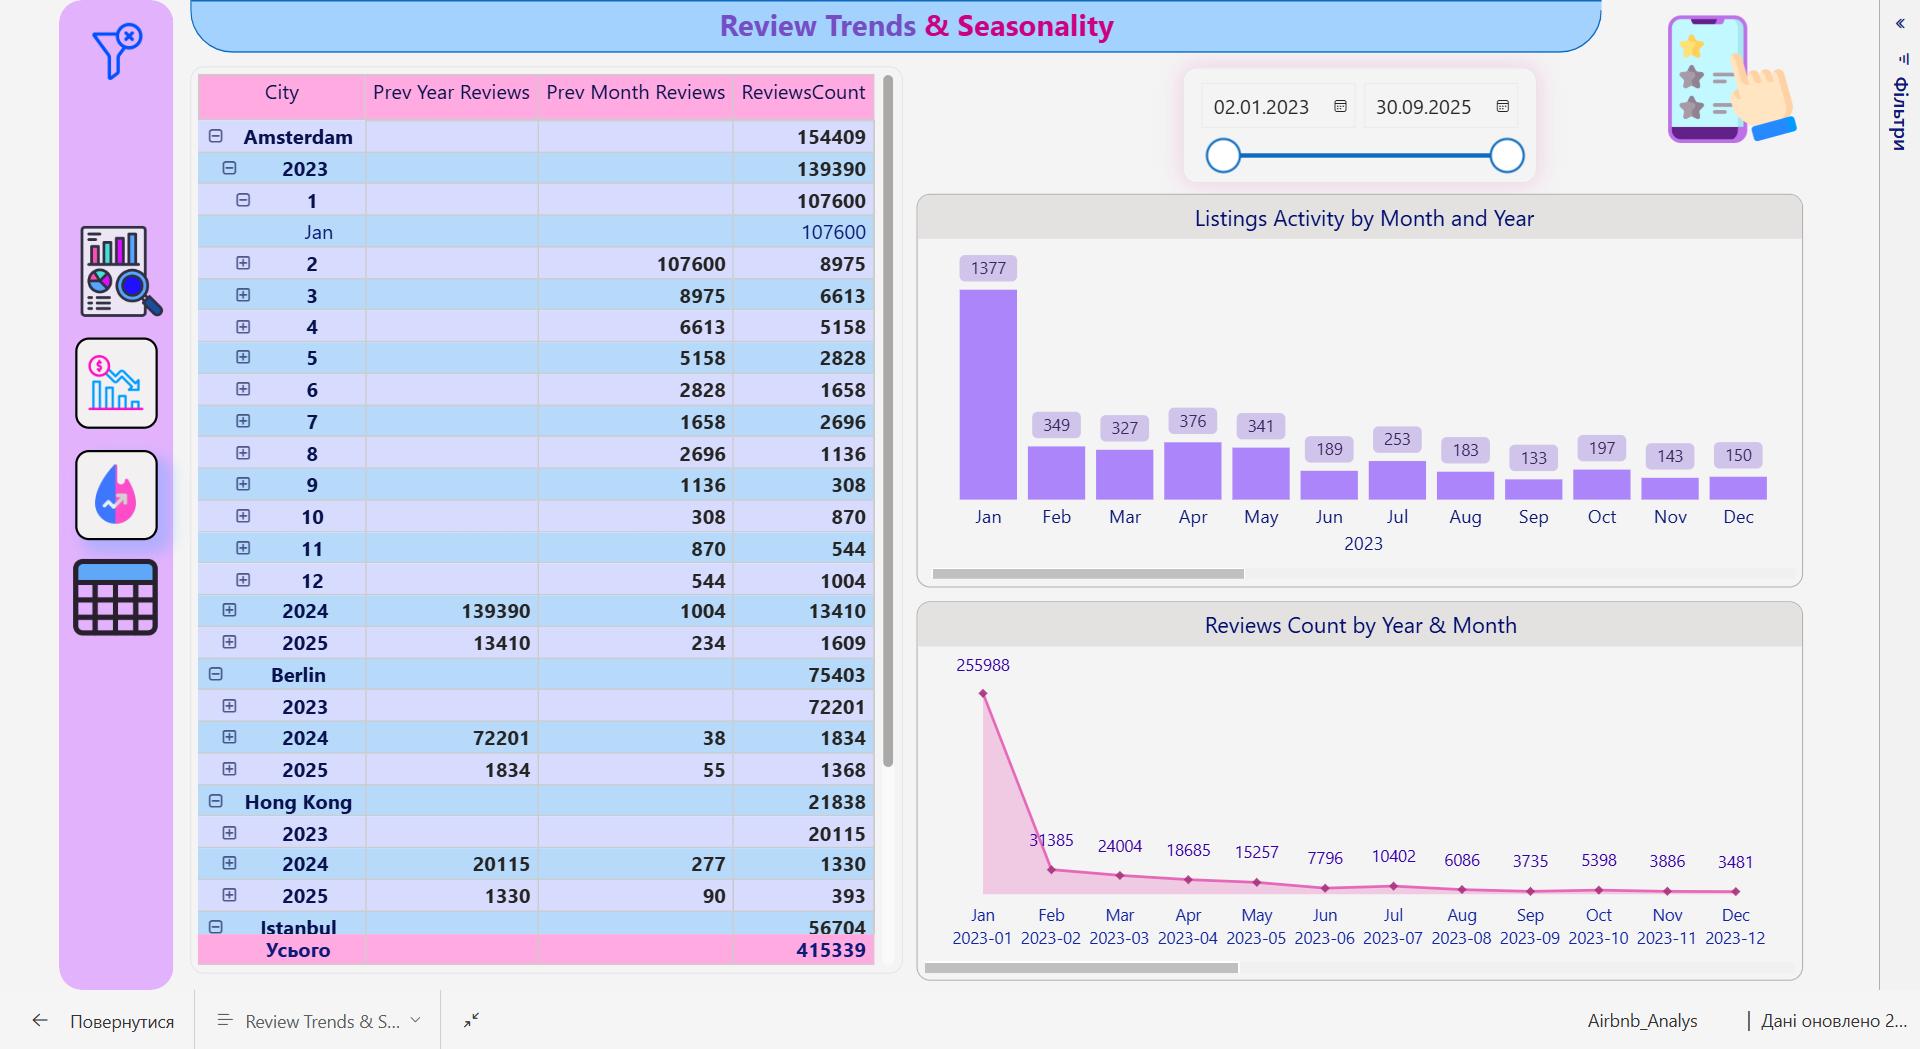

This screenshot's page, from the dashboard's own definition file:
{"tool":"powerbi","page":{"name":"Review Trends & Seasonality","canvas":[1280,720],"ordinal":2},"visuals":[{"type":"pivotTable","fields":{"Values":["_measures.NumberOfReviews"],"Rows":["Reviews5City.City","Calendar.Year","Calendar.MonthNumber","Calendar.MonthName"],"Columns":["Calculation group.Calculation group column"]},"box":[95,48.3,518.3,660],"z":0},{"type":"lineChart","title":"Reviews Count by Year & Month","fields":{"Category":["Calendar.YearMonth","Calendar.MonthName"],"Y":["_measures.NumberOfReviews"]},"box":[623.8,437.5,645,276.2],"z":1000},{"type":"slicer","title":"Choose Year:","fields":{"Values":["Listings5City.last_review"]},"box":[817.5,48.8,257.5,83.8],"z":2000},{"type":"lineStackedColumnComboChart","title":"Listings Activity by Month and Year","fields":{"Y":["_measures.ListingsCount"],"Category":["Calendar.Year","Calendar.MonthName"]},"box":[623.8,141.2,645,286.2],"z":3000},{"type":"shape","box":[95,0,1026.7,38.3],"z":4000},{"type":"textbox","box":[395,0,456.7,48.3],"z":5000},{"type":"shape","box":[0,0,83.3,720],"z":6000},{"type":"image","box":[7,151,77,93],"z":7000},{"type":"image","box":[11.7,245,60,66.7],"z":8000},{"type":"image","box":[11.5,326.9,60,65.4],"z":9000},{"type":"image","box":[5.3,401.3,71.3,72],"z":10000},{"type":"image","box":[7.1,12.1,70.7,51.4],"z":11000},{"type":"image","box":[1165,0,103.3,115],"z":12000}]}

Visuals, with their boxes on the page's 1280x720 design canvas (x1, y1, x2, y2). These are canvas units, not pixel positions in the 1920x1049 screenshot, which may show the page scaled, cropped or inside an application window:
pivotTable - _measures.NumberOfReviews x Reviews5City.City: region(95, 48, 613, 708)
"Reviews Count by Year & Month" lineChart: region(624, 438, 1269, 714)
"Choose Year:" slicer: region(818, 49, 1075, 133)
"Listings Activity by Month and Year" lineStackedColumnComboChart: region(624, 141, 1269, 427)
shape: region(95, 0, 1122, 38)
textbox: region(395, 0, 852, 48)
shape: region(0, 0, 83, 720)
image: region(7, 151, 84, 244)
image: region(12, 245, 72, 312)
image: region(12, 327, 72, 392)
image: region(5, 401, 77, 473)
image: region(7, 12, 78, 64)
image: region(1165, 0, 1268, 115)
